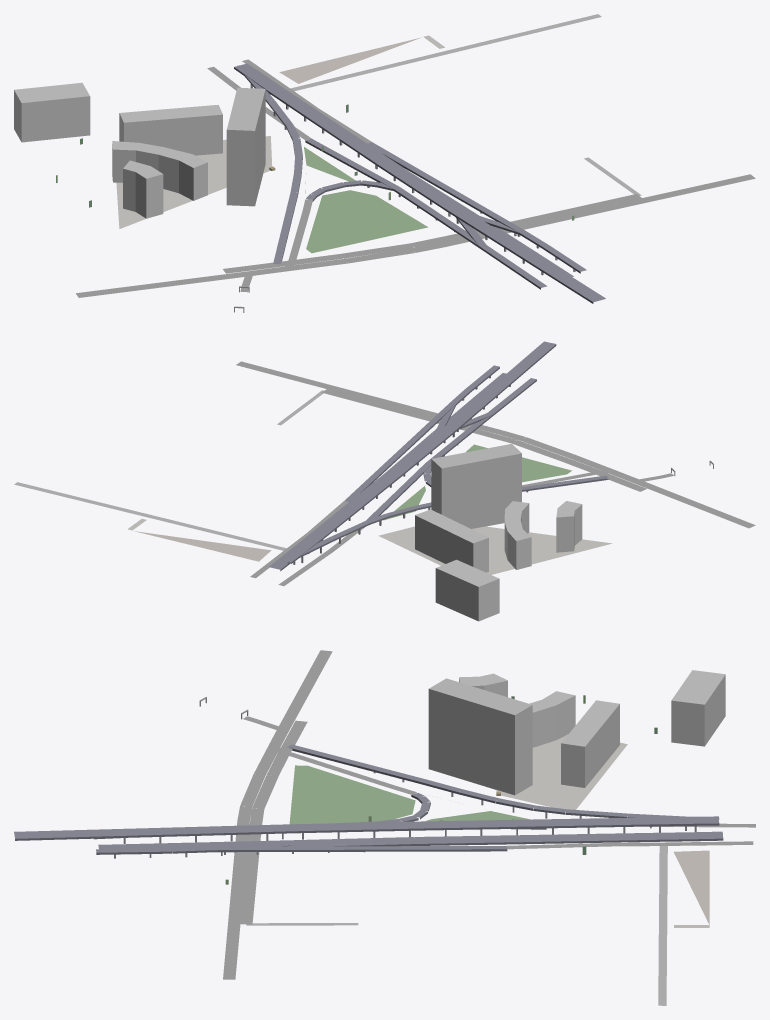
3 views of the same model, one above another, from view 1: azimuth 30°, elevation 25°; view 2: azimuth 150°, elevation 25°; view 3: azimuth 270°, elevation 25° (orthographic). The views are drawn at different scales.
Bounding box in the file's own units: 704 × 76.54 × 623.
